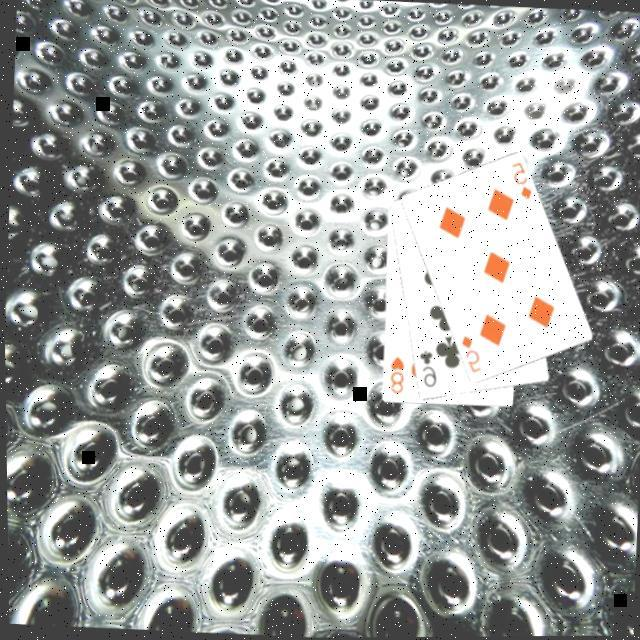5D: (457, 332, 485, 375), (507, 158, 535, 201)
8H: (385, 351, 408, 396)
9C: (414, 346, 440, 389)
